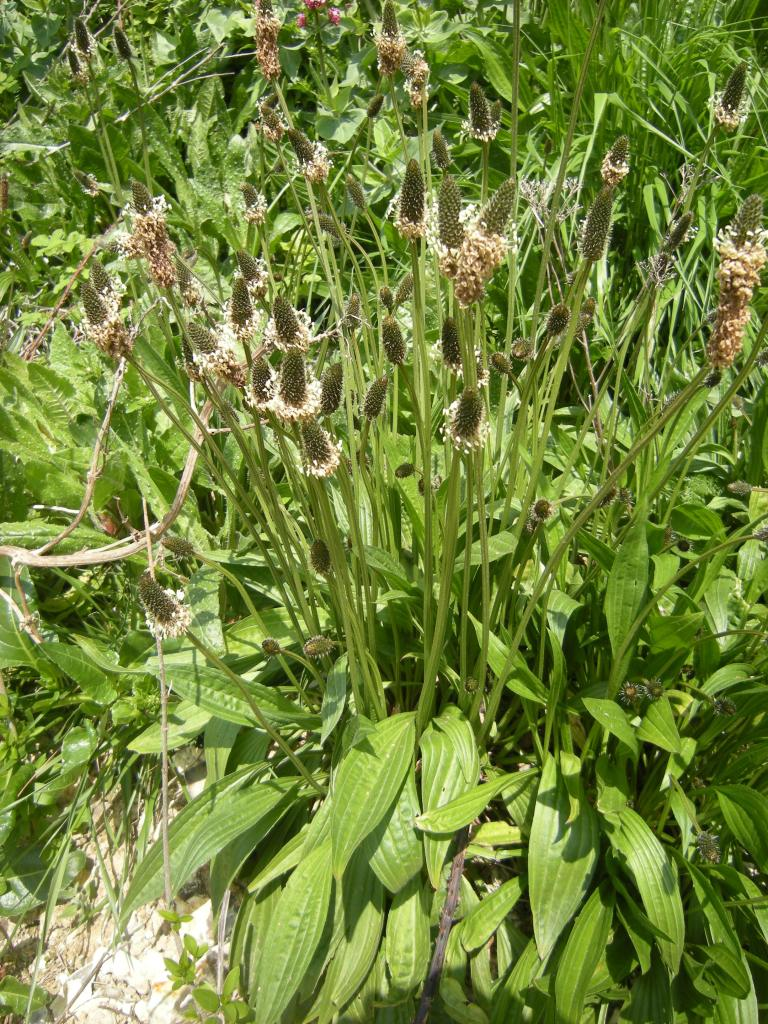buckhorn plantain: (112, 1, 752, 918)
